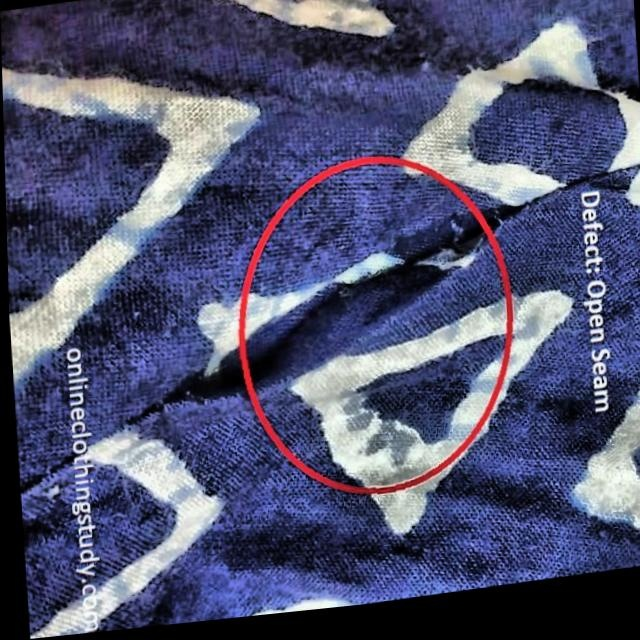seam: (99, 150, 582, 489)
